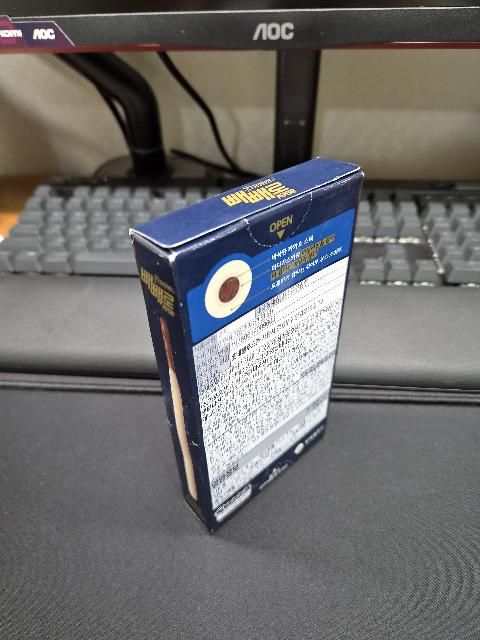pepero: (129, 157, 365, 535)
